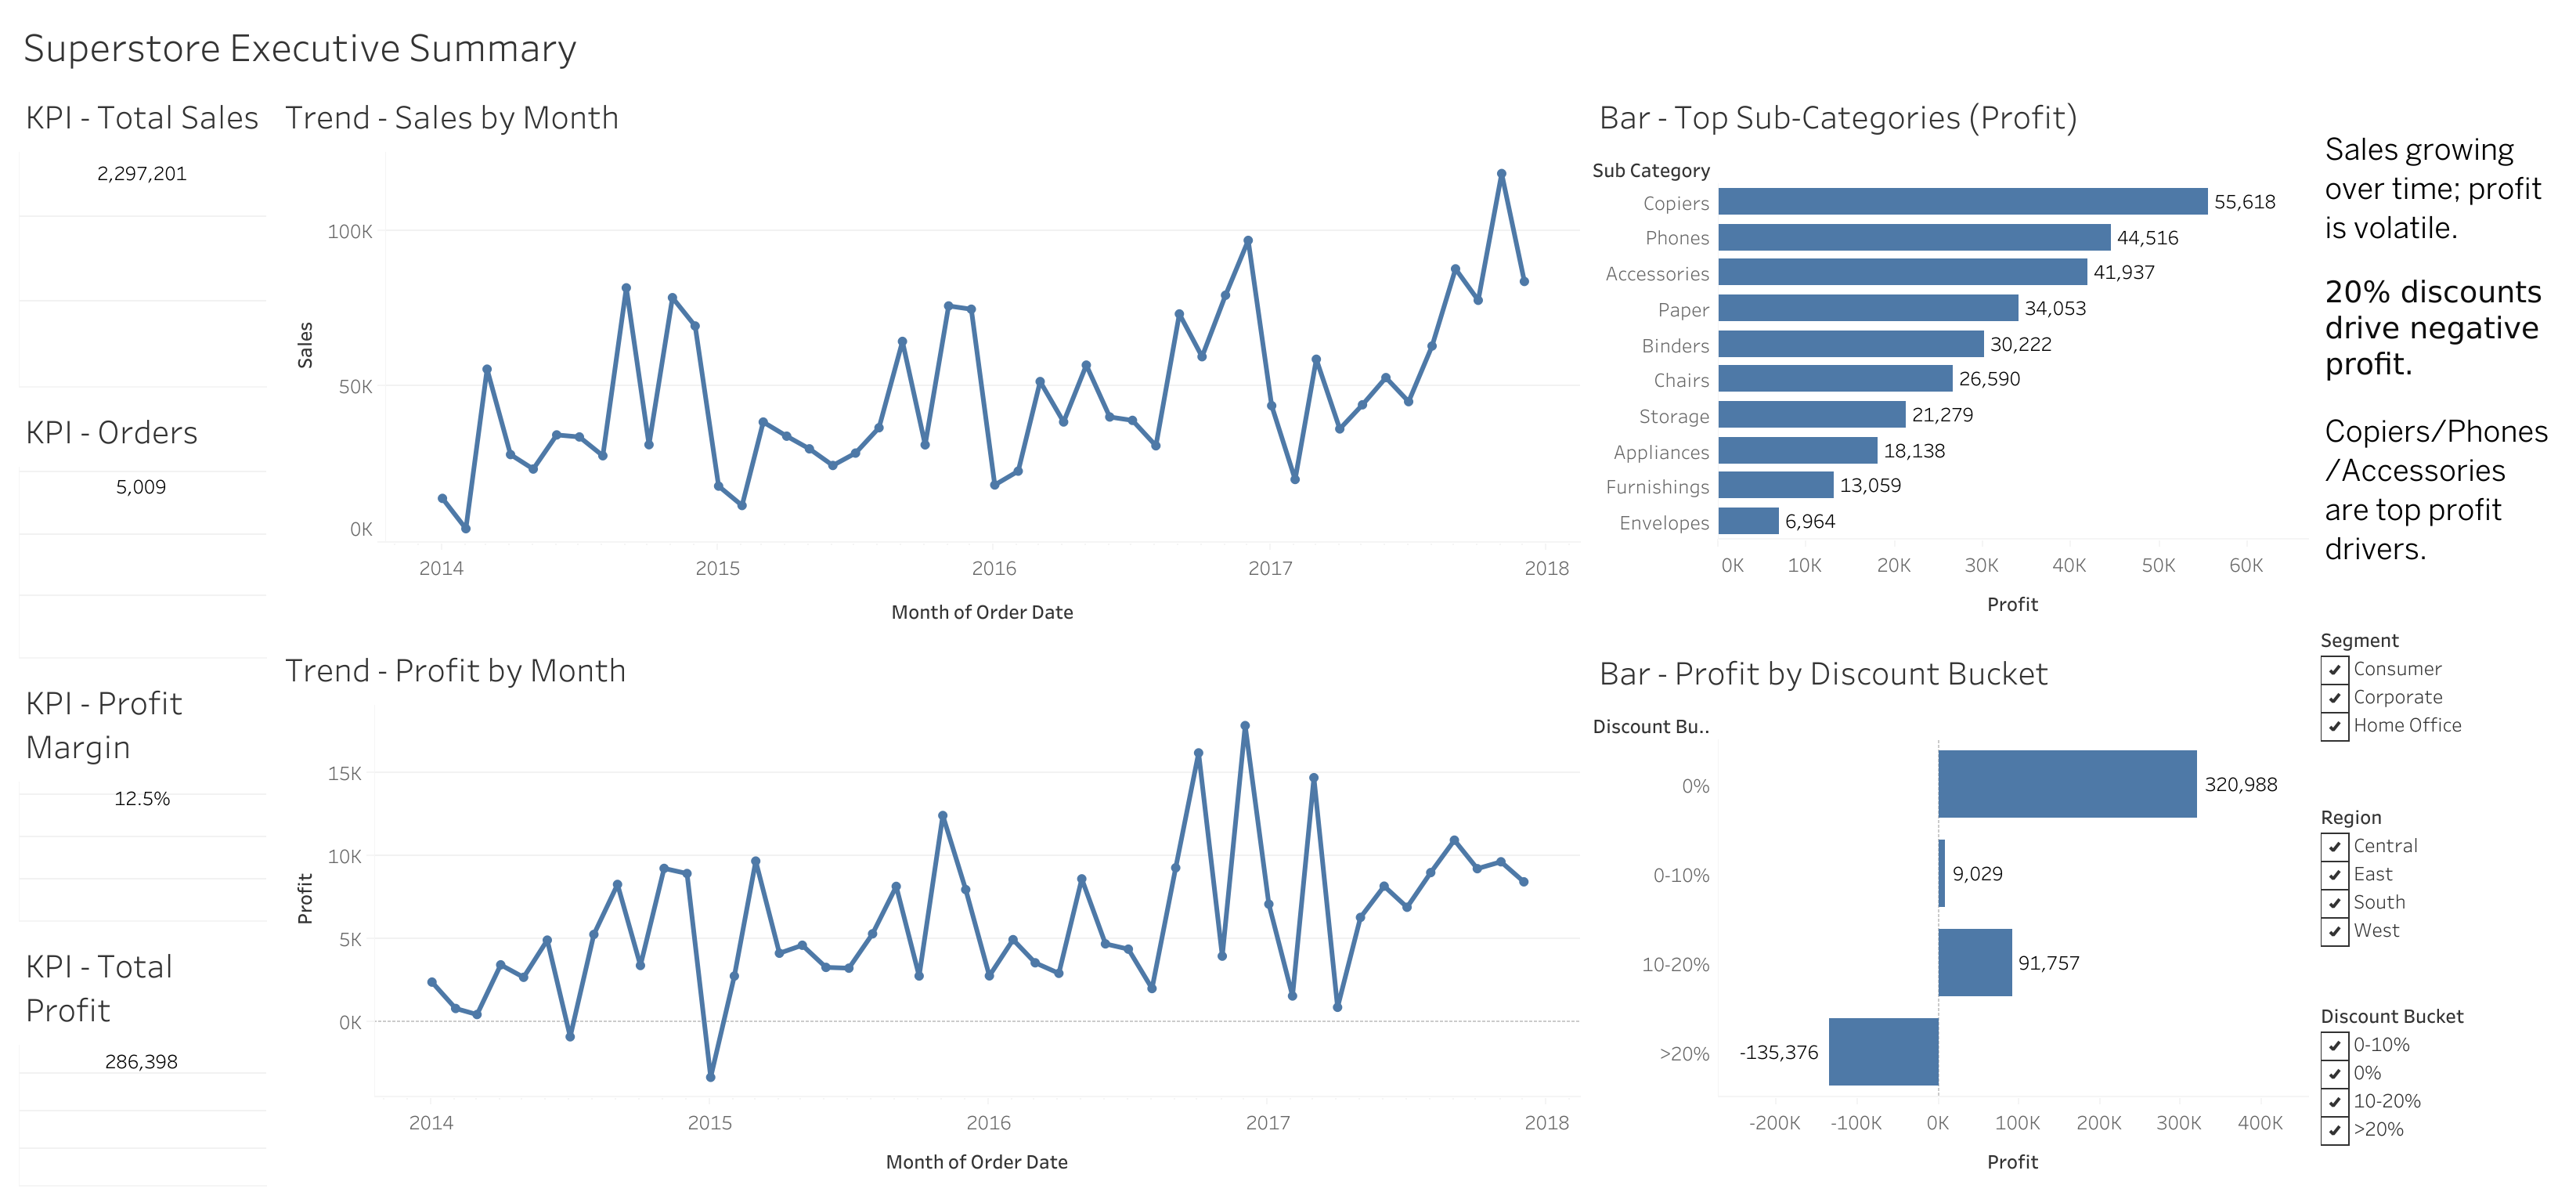

The page's visual inventory and layout, read from the dashboard file:
{"tool":"tableau","page":{"name":"Superstore Executive Summary","canvas":[1000,1000],"units":"permille","ordinal":0},"visuals":[{"type":"title","box":[7.3,9.6,985.4,50.4]},{"type":"worksheet","title":"KPI - Total Sales","mark":"Automatic","rows":["sales"],"box":[7.3,60,100.2,241]},{"type":"worksheet","title":"Trend - Sales by Month","mark":"Line","rows":["sales"],"cols":["order_date"],"box":[107.5,60,507.3,464]},{"type":"worksheet","title":"Bar - Top Sub-Categories (Profit)","mark":"Bar","rows":["sub_category"],"cols":["profit"],"box":[614.8,60,232.2,465.2]},{"type":"text","box":[847,60,145.7,412.5]},{"type":"worksheet","title":"KPI - Orders","mark":"Automatic","rows":["order_id"],"box":[7.3,300.9,100.2,207.4]},{"type":"filter","title":"Trend - Sales by Month","param":"[federated.11i6gov11nwgfp16o3snj15npyjp].[none:segment:nk]","box":[847,472.4,145.7,129.5]},{"type":"worksheet","title":"KPI - Profit Margin","mark":"Automatic","rows":["Calculation_3639831378182144"],"box":[7.3,508.4,100.2,241]},{"type":"worksheet","title":"Trend - Profit by Month","mark":"Line","rows":["profit"],"cols":["order_date"],"box":[107.5,524,507.3,466.4]},{"type":"worksheet","title":"Bar - Profit by Discount Bucket","mark":"Bar","rows":["discount_bucket"],"cols":["profit"],"box":[614.8,525.2,232.2,465.2]},{"type":"filter","title":"Trend - Sales by Month","param":"[federated.11i6gov11nwgfp16o3snj15npyjp].[none:region:nk]","box":[847,601.9,145.7,152.3]},{"type":"worksheet","title":"KPI - Total Profit","mark":"Automatic","rows":["profit"],"box":[7.3,749.4,100.2,241]},{"type":"filter","title":"Trend - Sales by Month","param":"[federated.11i6gov11nwgfp16o3snj15npyjp].[none:discount_bucket:nk]","box":[847,754.2,145.7,152.3]}]}

Visuals, with their boxes on the dashboard's canvas, which has no fixed pixel size, in thousandths of its width and height (x1, y1, x2, y2). These are canvas units, not pixel positions in the 2576x1203 screenshot, which may show the page scaled, cropped or inside an application window:
title: bbox=[7, 10, 993, 60]
"KPI - Total Sales" worksheet: bbox=[7, 60, 108, 301]
"Trend - Sales by Month" worksheet (Line marks): bbox=[108, 60, 615, 524]
"Bar - Top Sub-Categories (Profit)" worksheet (Bar marks): bbox=[615, 60, 847, 525]
text: bbox=[847, 60, 993, 472]
"KPI - Orders" worksheet: bbox=[7, 301, 108, 508]
"Trend - Sales by Month" filter: bbox=[847, 472, 993, 602]
"KPI - Profit Margin" worksheet: bbox=[7, 508, 108, 749]
"Trend - Profit by Month" worksheet (Line marks): bbox=[108, 524, 615, 990]
"Bar - Profit by Discount Bucket" worksheet (Bar marks): bbox=[615, 525, 847, 990]
"Trend - Sales by Month" filter: bbox=[847, 602, 993, 754]
"KPI - Total Profit" worksheet: bbox=[7, 749, 108, 990]
"Trend - Sales by Month" filter: bbox=[847, 754, 993, 906]
